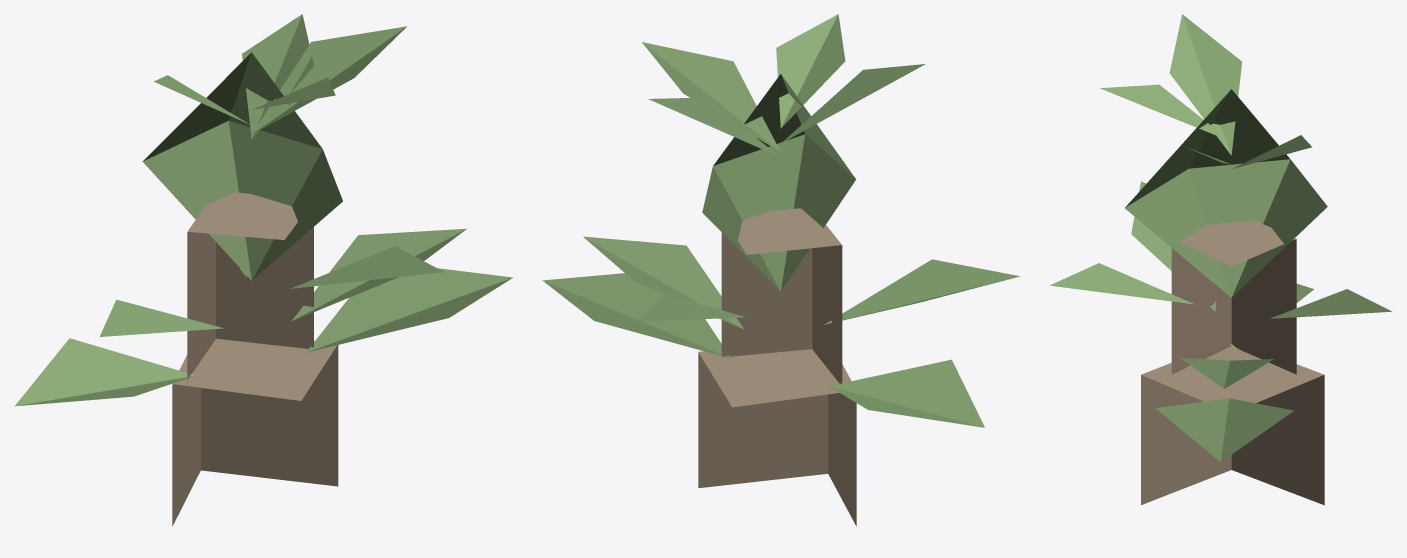
The model's file is guan.yueju@seedling__spring.glb.
The picture shows the model from 3 angles, left to right: view 1: azimuth 30°, elevation 25°; view 2: azimuth 150°, elevation 25°; view 3: azimuth 270°, elevation 25°; orthographic projection. The views are drawn at different scales.
Visible parts, largest first — view 1: guan.yueju@seedling__spring; view 2: guan.yueju@seedling__spring; view 3: guan.yueju@seedling__spring.
Part boxes in pixels (x1=…): guan.yueju@seedling__spring: x1=15, y1=14, x2=512, y2=526; guan.yueju@seedling__spring: x1=542, y1=14, x2=1019, y2=526; guan.yueju@seedling__spring: x1=1050, y1=14, x2=1391, y2=505.
Bounding box in the file's own units: 0.0936 × 0.0885 × 0.0633.
